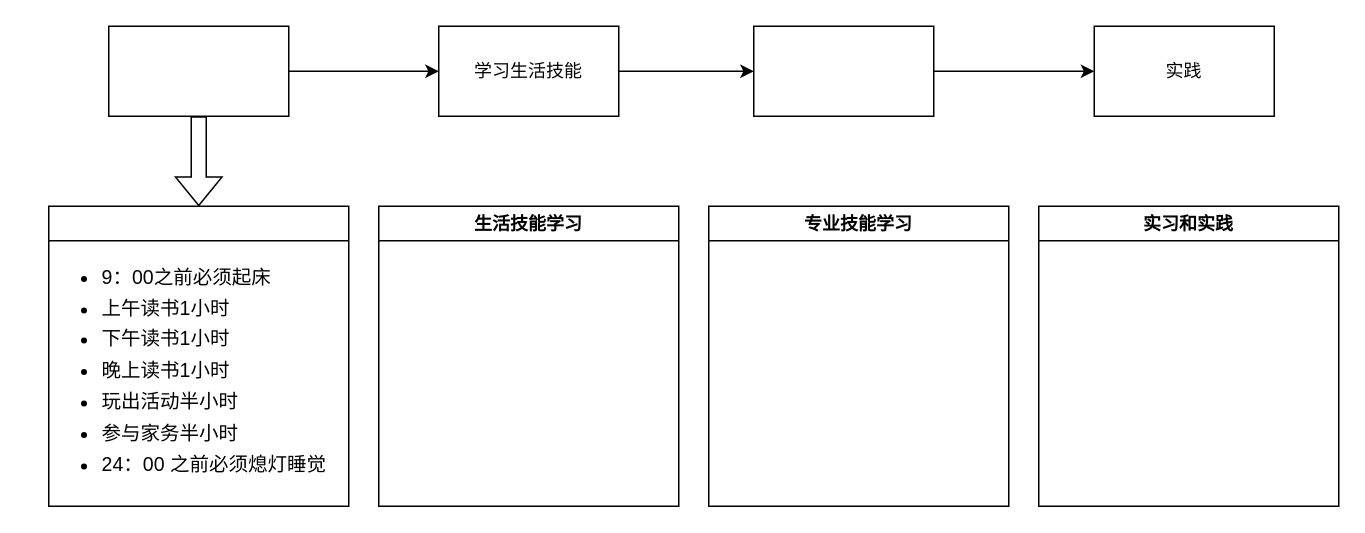
Some shapes in this 1365 by 533 pixel diagram are drawn without their labels. The box of each missing label's shape, as (x1, y1, x2, y2) in pixels:
学习专业技能: (752, 25, 934, 116)
改变生活习惯: (107, 25, 289, 116)
重点举措: (47, 205, 349, 506)
